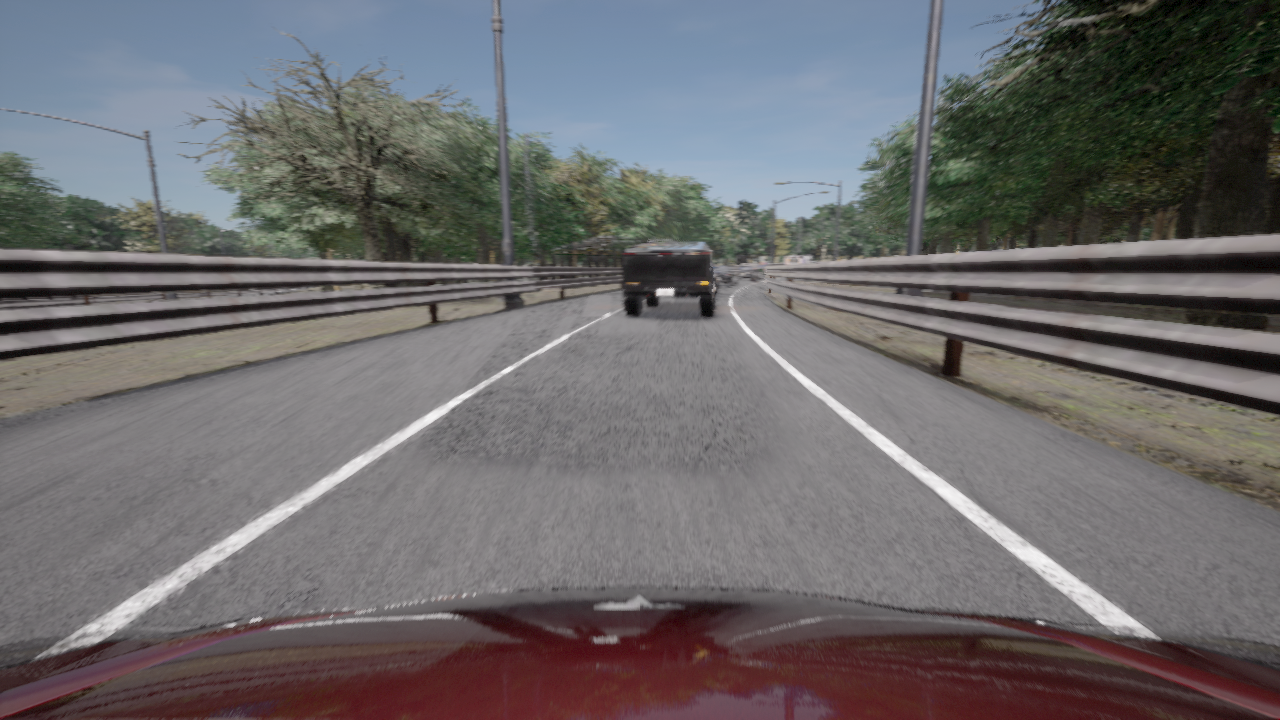cyclist: (0, 588, 1279, 719), (622, 241, 716, 317), (714, 266, 740, 286), (736, 266, 760, 281), (755, 263, 771, 277), (785, 256, 811, 264), (715, 273, 718, 294)
